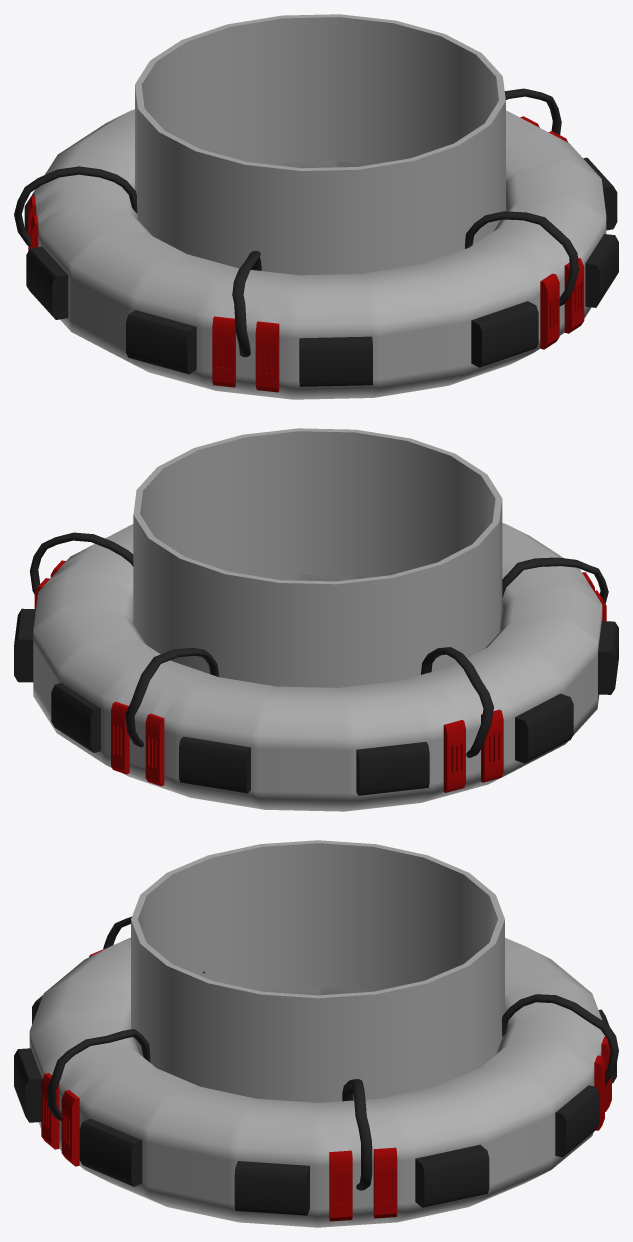
File: Energi_Staple.fbx
3 views of the same model, one above another, from view 1: azimuth 30°, elevation 25°; view 2: azimuth 150°, elevation 25°; view 3: azimuth 270°, elevation 25° (orthographic).
Visible parts, largest first — view 1: pTorus18; view 2: pTorus18; view 3: pTorus18.
Boxes of the visible parts, left/top/right/bottom form: pTorus18: left=14, top=14, right=618, bottom=399; pTorus18: left=14, top=428, right=618, bottom=811; pTorus18: left=14, top=840, right=618, bottom=1227.
Size of the model in its own units: 77.3 by 27.91 by 76.52.
